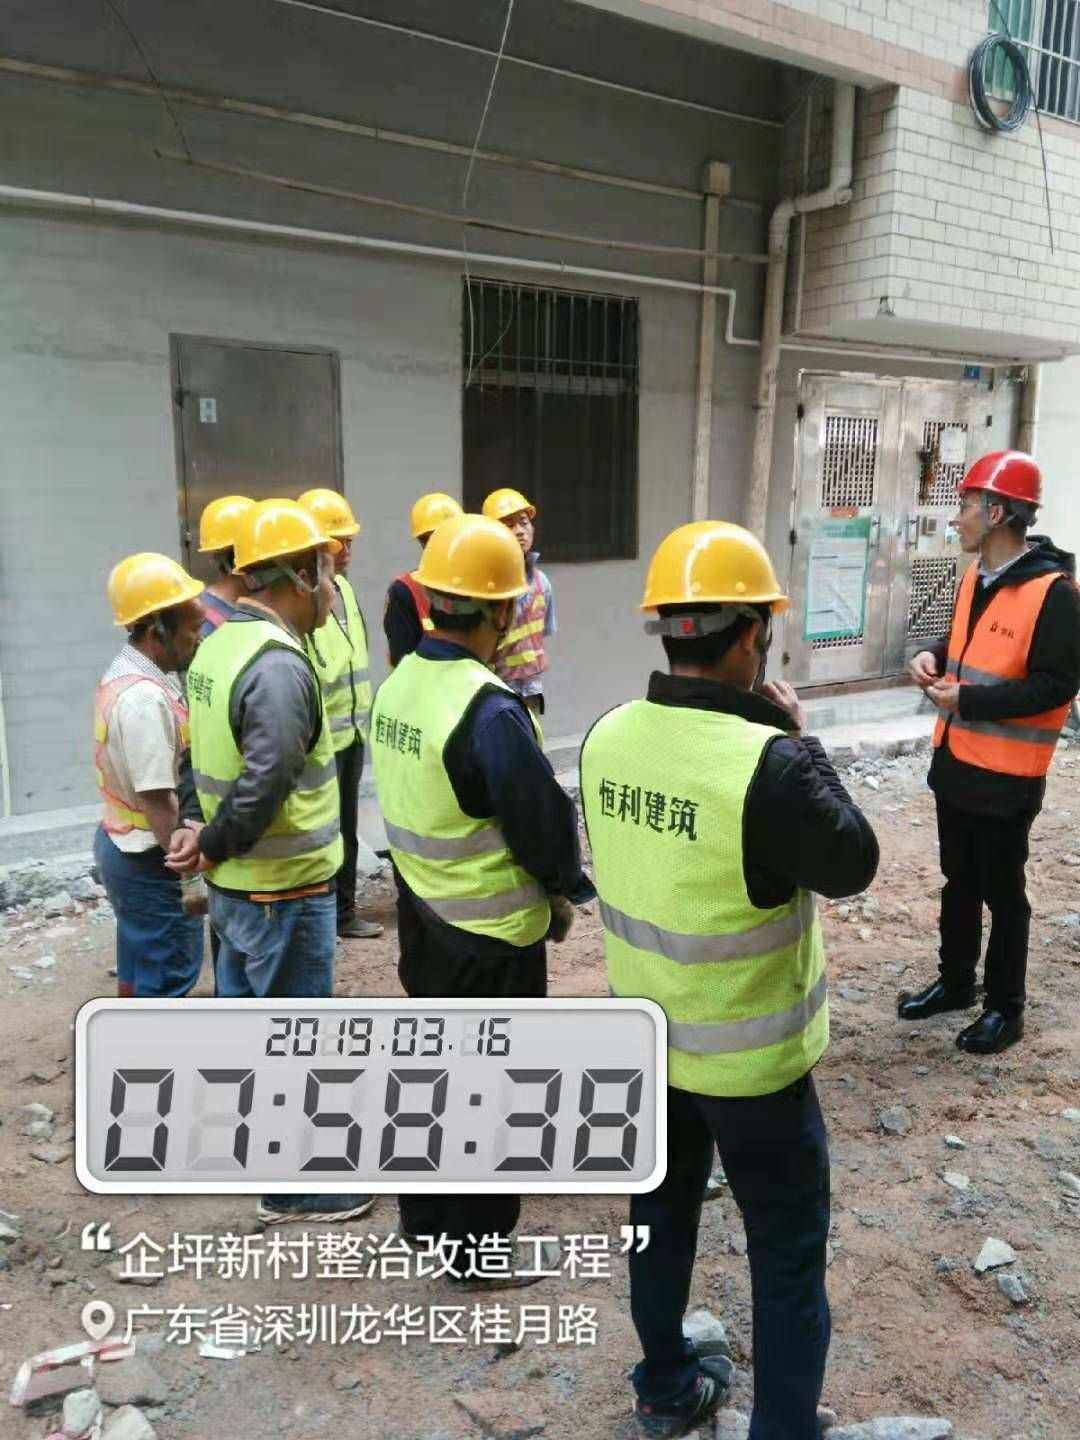person: (577, 518, 879, 1440), (363, 508, 597, 1295), (187, 488, 382, 1229), (891, 447, 1080, 1055), (88, 545, 212, 998)
reflective_vest: (577, 691, 832, 1103), (369, 643, 555, 949), (184, 613, 347, 896), (925, 555, 1073, 782), (90, 663, 191, 844)
safety_helmet: (636, 515, 798, 690), (411, 509, 532, 661), (228, 496, 347, 633), (104, 548, 209, 673), (949, 450, 1048, 558), (299, 482, 363, 580), (197, 491, 258, 591), (483, 483, 540, 552)
